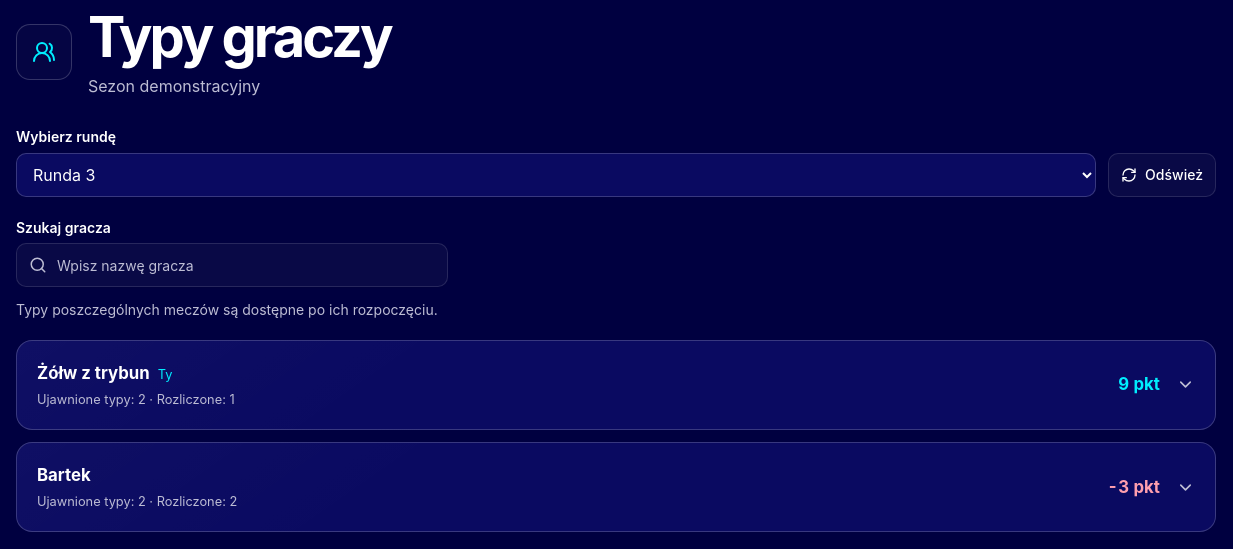
Test case: searches names without Polish diacritics and provides an empty search result
Type "  ZOLW  " into the search field labelled "Szukaj gracza" at (232, 265), box x1=16 y1=243 x2=448 y2=287
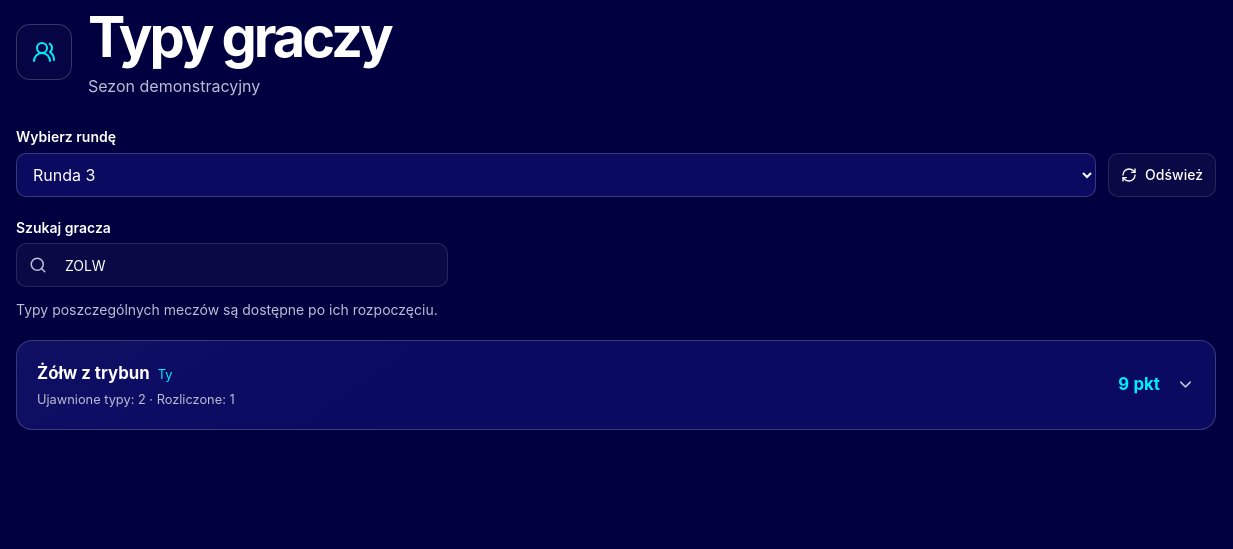
Expected: the button "Żółw z trybun" is shown, x1=17 y1=341 x2=1215 y2=429
Expected: the button "Bartek" is gone
Replace the text in the search field labelled "Szukaj gracza" with "nieistniejący gracz" at (232, 265), box x1=16 y1=243 x2=448 y2=287
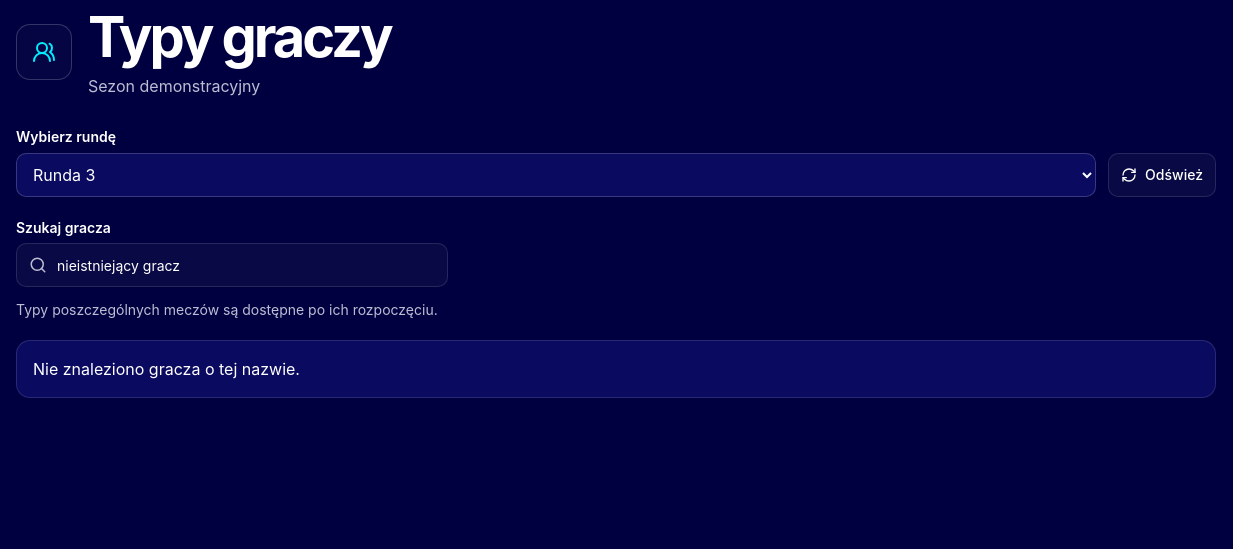
Expected: the text "Nie znaleziono gracza o tej nazwie." is shown, x1=16 y1=340 x2=1216 y2=398
